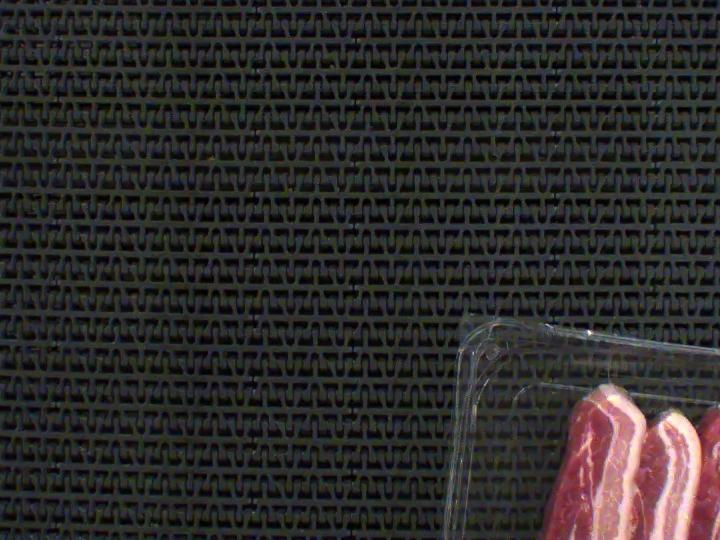packaging-error: (594, 351, 620, 390)
